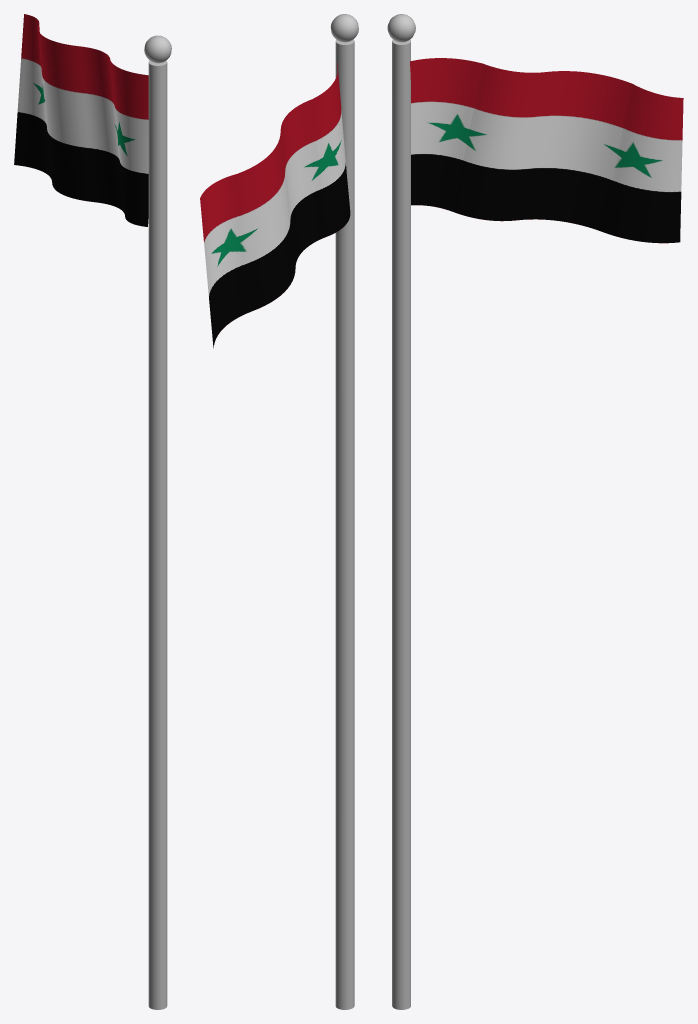
File: flag1.fbx
The picture shows the model from 3 angles, left to right: view 1: azimuth 30°, elevation 25°; view 2: azimuth 150°, elevation 25°; view 3: azimuth 270°, elevation 25°; orthographic projection. The views are drawn at different scales.
Parts seen in each view (by area): view 1: Model, Group1, sphere; view 2: Model, Group1, sphere; view 3: Model, Group1.
Boxes of the visible parts, x1,y1,x2,y2 form: Model: (14, 14, 148, 226); Group1: (148, 60, 167, 1009); sphere: (144, 35, 171, 63); Model: (200, 63, 350, 348); Group1: (335, 39, 354, 1009); sphere: (330, 14, 358, 42); Model: (410, 58, 683, 243); Group1: (392, 39, 410, 1009).
Bounding box in the file's own units: 0.2622 × 8.07 × 2.19.
3 materials, 1 textured.
